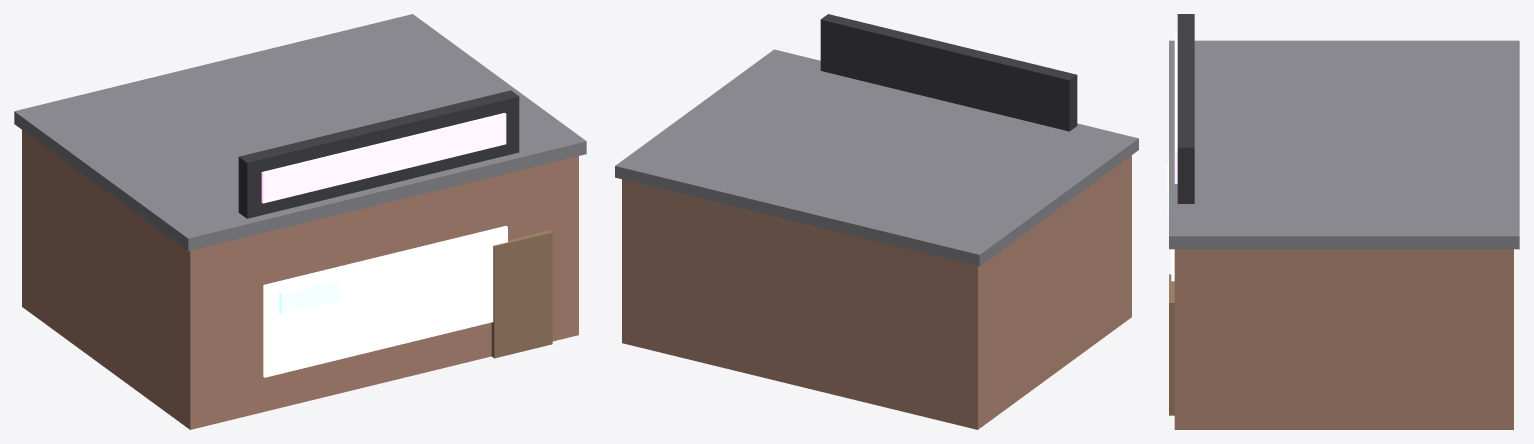
The model's file is liquor_store.glb.
3 views of the same model, side by side, from view 1: azimuth 30°, elevation 25°; view 2: azimuth 150°, elevation 25°; view 3: azimuth 270°, elevation 25° (orthographic). The views are drawn at different scales.
Parts seen in each view (by area): view 1: liquor_store; view 2: liquor_store; view 3: liquor_store.
Boxes of the visible parts, x1,y1,x2,y2 form: liquor_store: (14, 14, 586, 429); liquor_store: (615, 14, 1138, 429); liquor_store: (1167, 14, 1519, 429).
Bounding box in the file's own units: 8.2 × 4.95 × 6.23.
